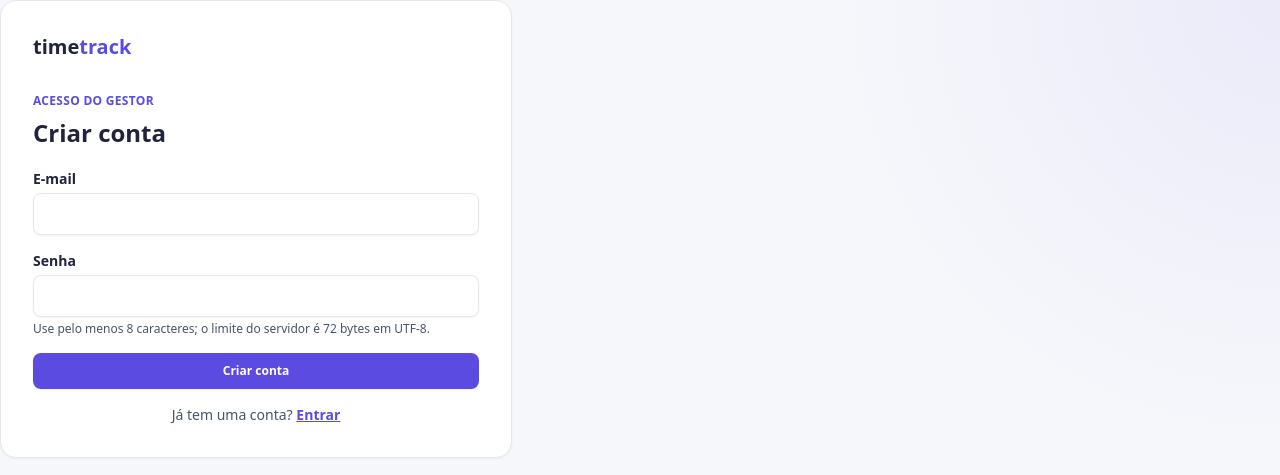
it: AuthPage › creates an account and asks the manager to sign in without creating a session
In the field labelled "E-mail": (256, 214) [33,193,479,235], type " gestor@empresa.com "
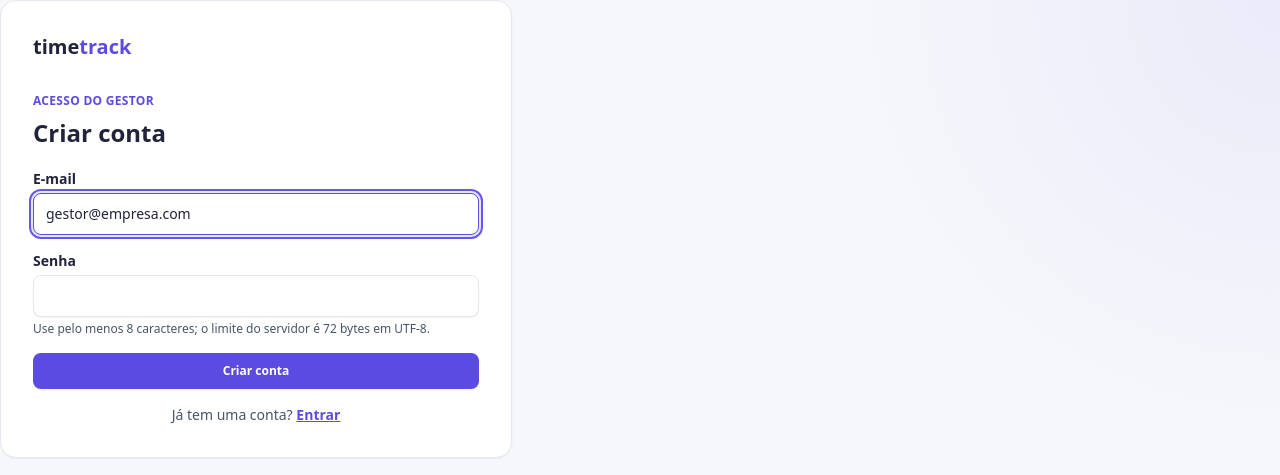
In the password field labelled "Senha": (256, 296) [33,275,479,317], type "SenhaSegura123!"
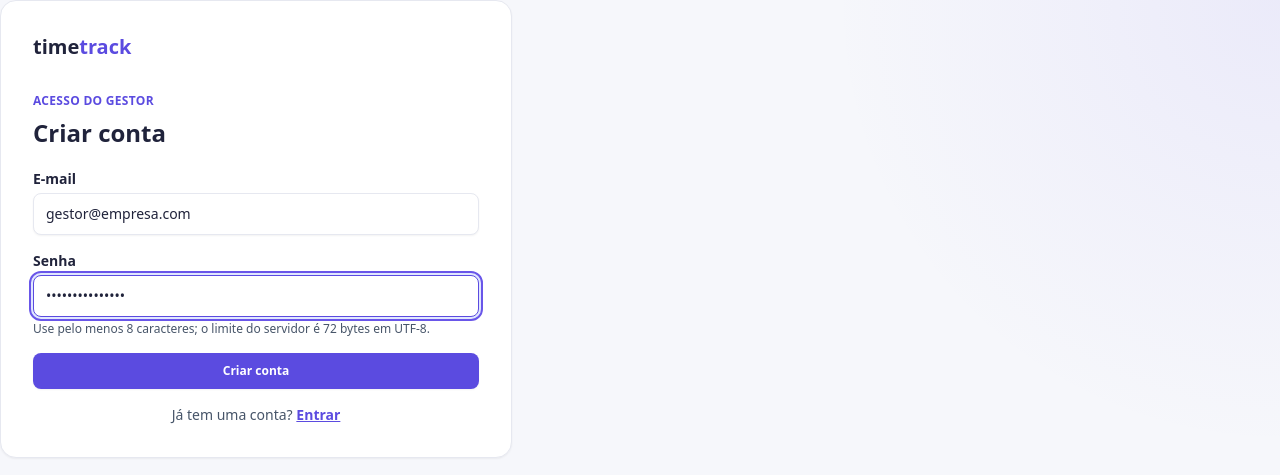
Click the button "Criar conta": (256, 371) [33,353,479,389]
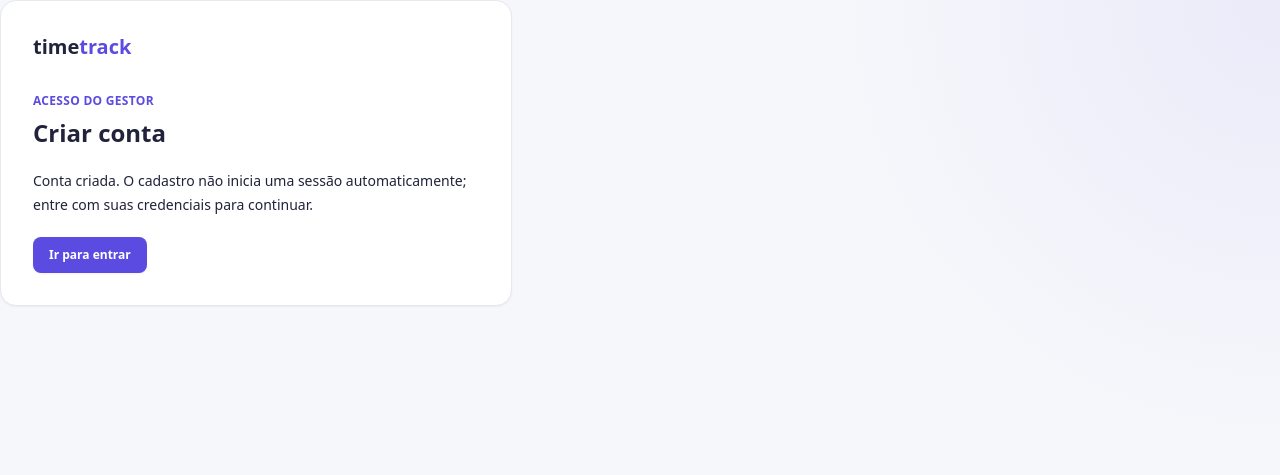
Result: the message shows "O cadastro não inicia uma sessão automaticamente" at [33,171,466,214]
